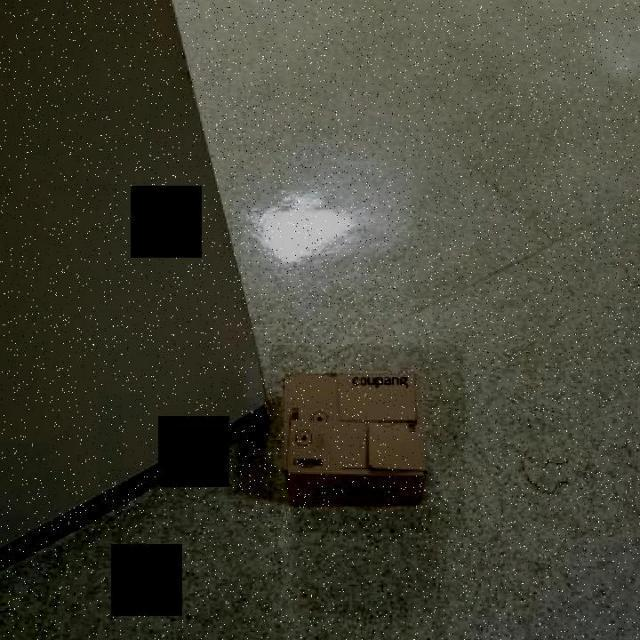box: (270, 344, 464, 534)
